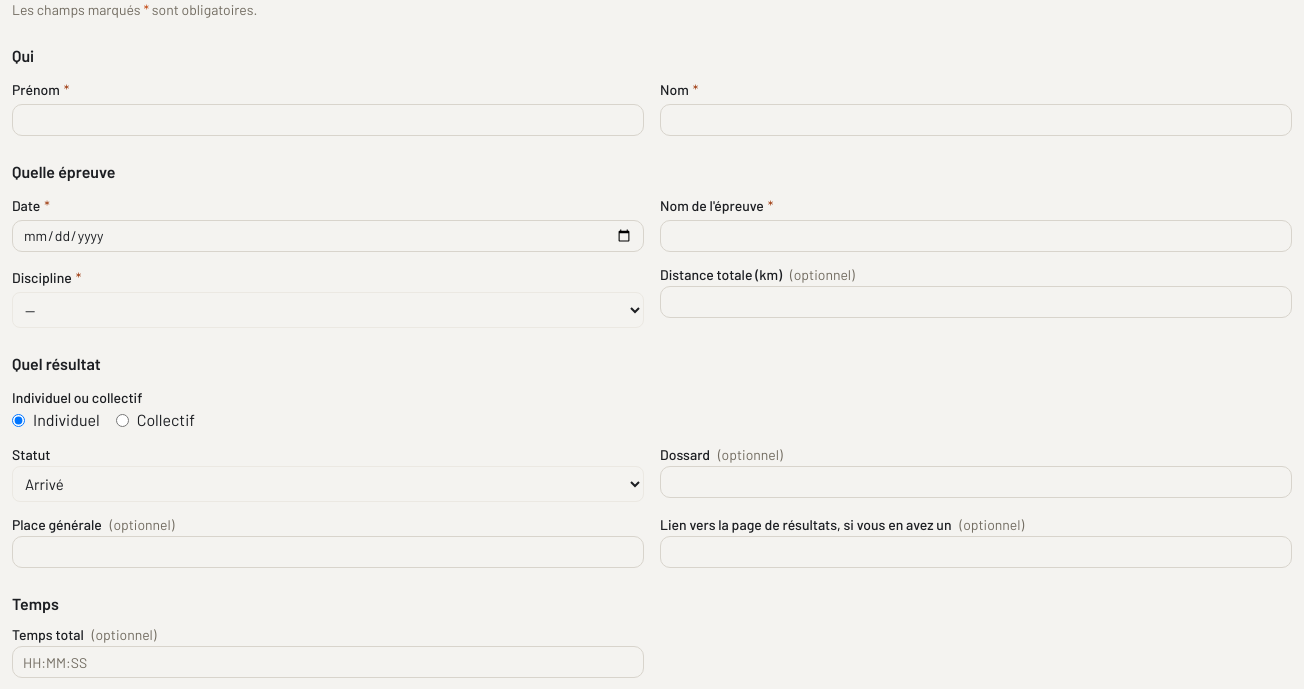
ManualResultForm — requis, optionnel et validation au blur (ACT-11) › replie les temps par discipline derrière un dépliant fermé au départ
Select "Triathlon" in the dropdown labelled "Discipline" at (328, 310), box [12, 292, 644, 328]
(page scrolled)
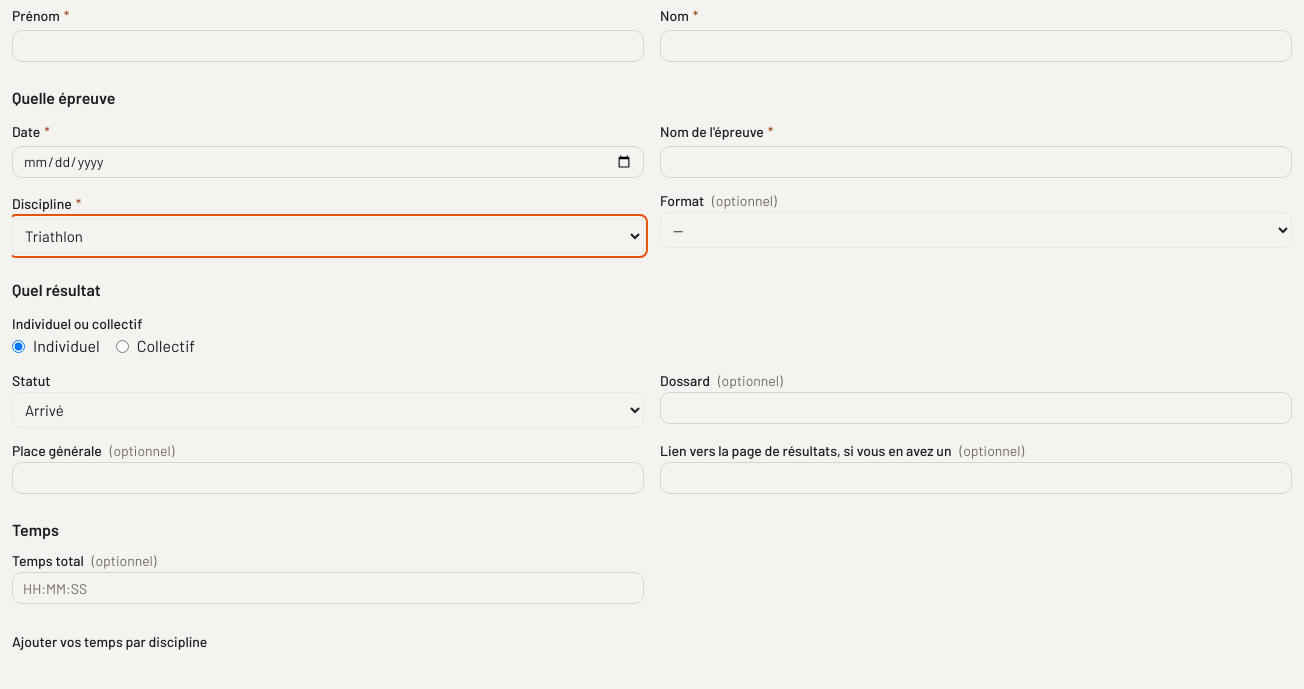
Expected: the text "Ajouter vos temps par discipline" is shown, [12, 633, 207, 650]
